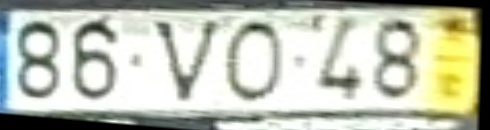4: (313, 18, 366, 103)
6: (68, 18, 125, 103)
8: (369, 16, 428, 100), (12, 19, 68, 103)
O: (221, 18, 291, 105)
V: (149, 18, 225, 106)
